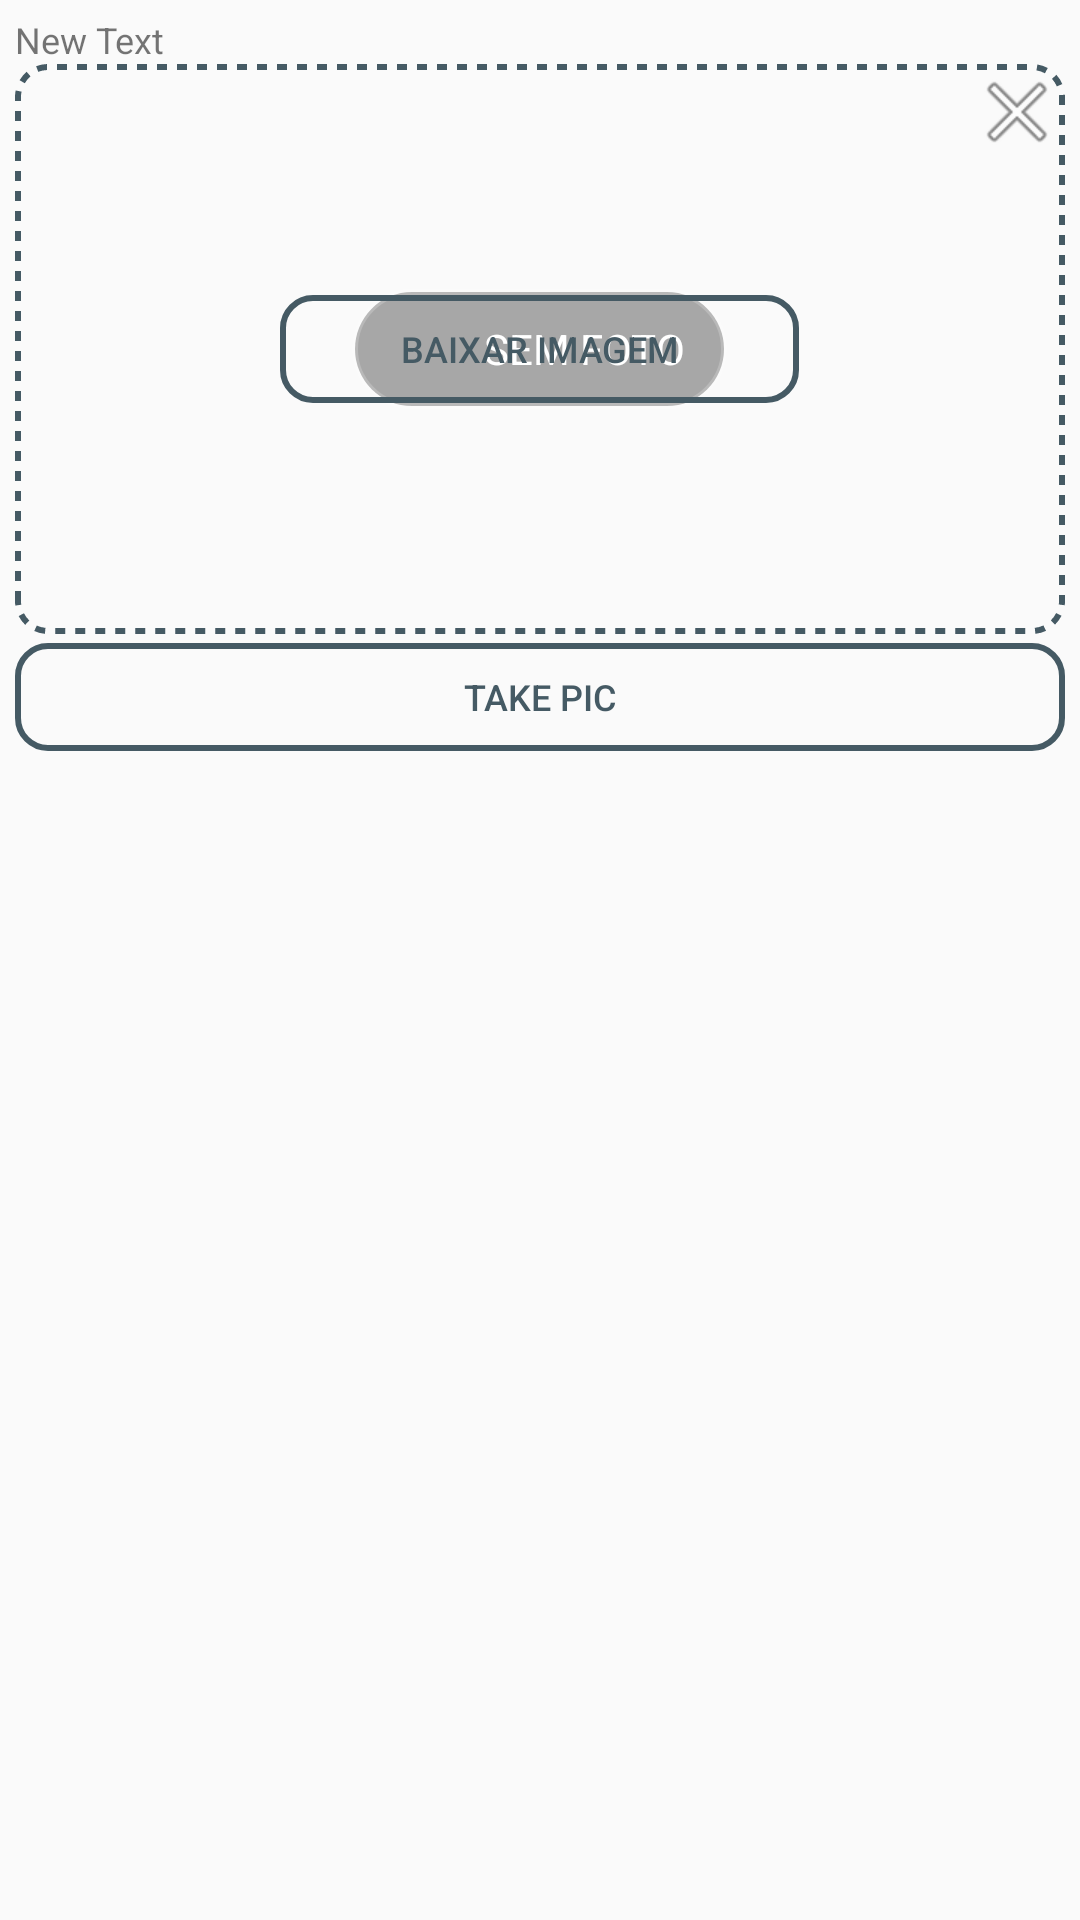

Icon bounding boxes for this 1080x1920 phone screenshot, format rect(x1, y1, x2, y2):
close clear cancel: rect(977, 64, 1065, 160)
